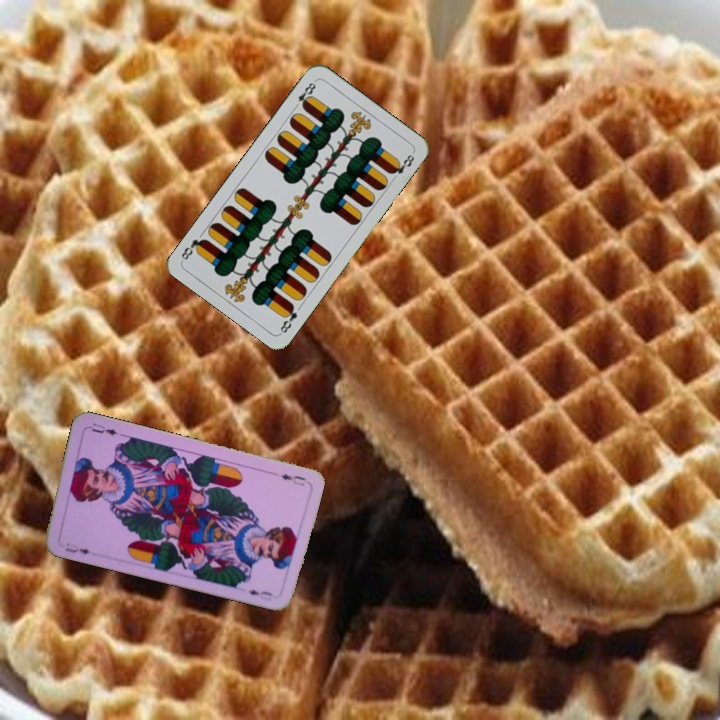E8: (290, 77, 319, 112), (276, 300, 300, 336)
EU: (269, 468, 308, 488), (61, 543, 93, 557)
